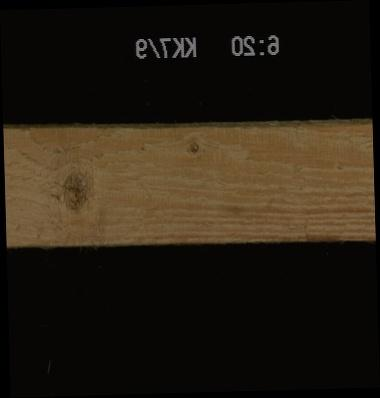small_knot: (183, 137, 203, 158)
sound_knot: (56, 163, 95, 216)
